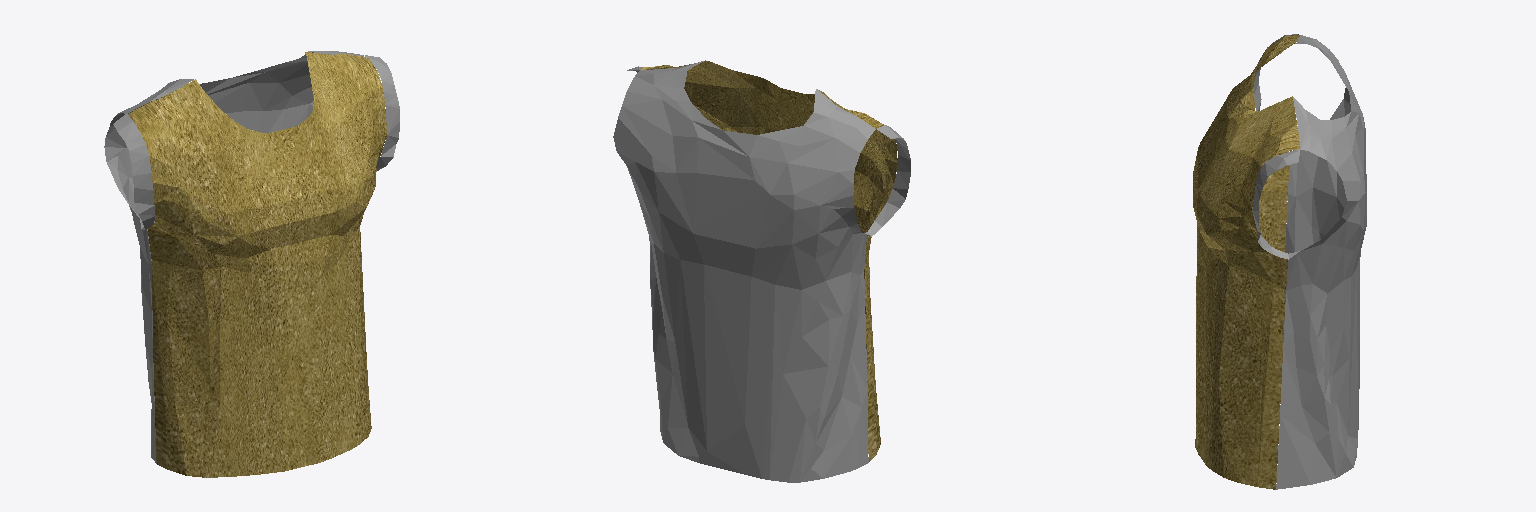
3 renders of one model, left to right at view 1: azimuth 30°, elevation 25°; view 2: azimuth 150°, elevation 25°; view 3: azimuth 270°, elevation 25°, orthographic.
Parts seen in each view (by area): view 1: T_shirt; view 2: T_shirt; view 3: T_shirt.
Boxes of the visible parts, x1,y1,x2,y2 form: T_shirt: [104, 51, 399, 477]; T_shirt: [613, 60, 910, 482]; T_shirt: [1193, 34, 1366, 489].
Size of the model in its own units: 0.2935 by 0.3892 by 0.1639.
2 materials, 1 textured.